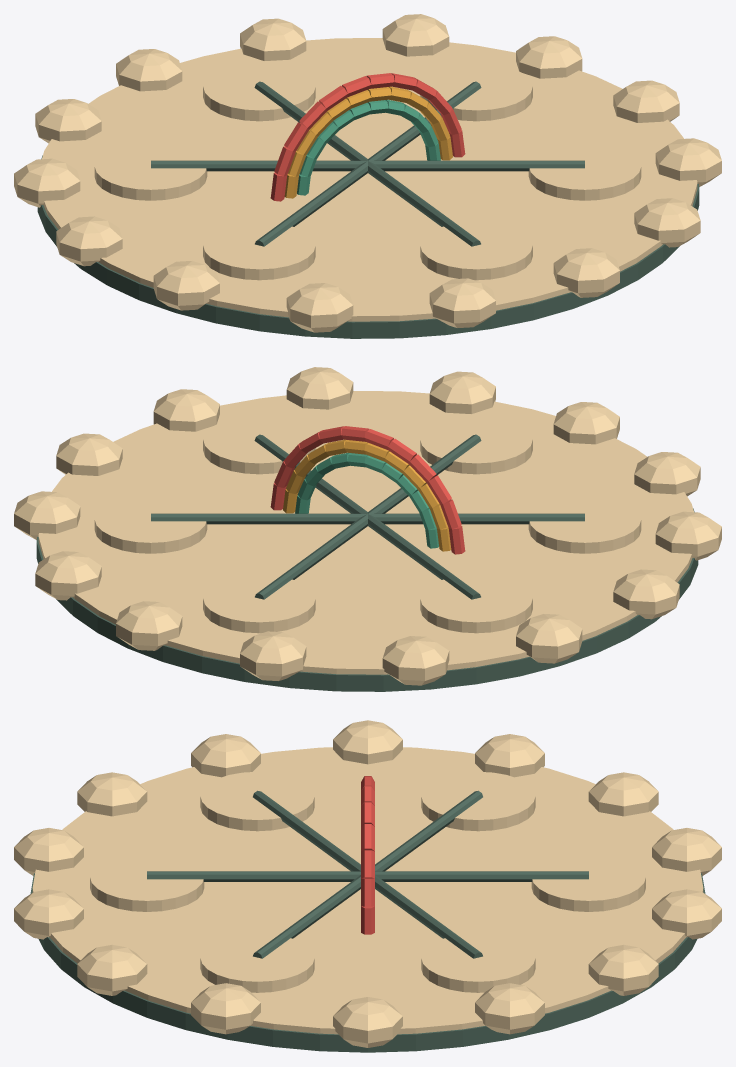
The model's file is ParkParkNimbusHub.obj.
The picture shows the model from 3 angles, top to bottom: view 1: azimuth 30°, elevation 25°; view 2: azimuth 150°, elevation 25°; view 3: azimuth 270°, elevation 25°; orthographic projection.
Parts seen in each view (by area): view 1: ParkParkNimbusHub; view 2: ParkParkNimbusHub; view 3: ParkParkNimbusHub.
Boxes of the visible parts, x1,y1,x2,y2 form: ParkParkNimbusHub: [14, 14, 721, 338]; ParkParkNimbusHub: [14, 367, 721, 691]; ParkParkNimbusHub: [14, 720, 721, 1052].
Size of the model in its own units: 17.71 by 3.35 by 17.31.
